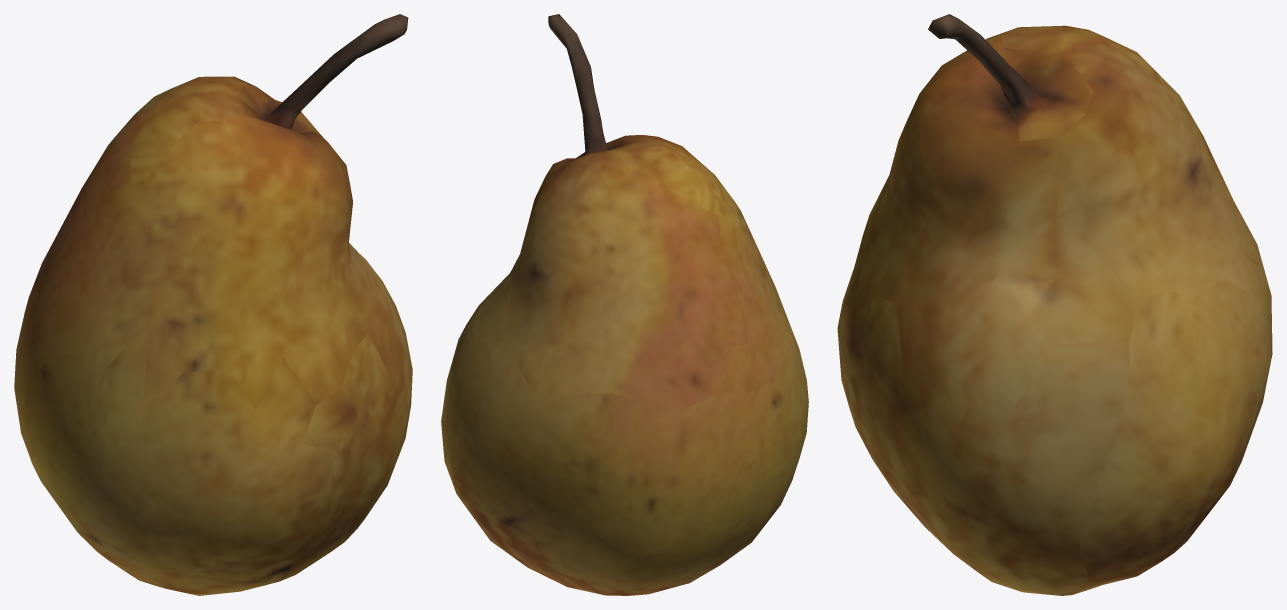
Rendered from pear.obj.
3 renders of one model, left to right at view 1: azimuth 30°, elevation 25°; view 2: azimuth 150°, elevation 25°; view 3: azimuth 270°, elevation 25°, orthographic. The views are drawn at different scales.
Parts seen in each view (by area): view 1: pear; view 2: pear; view 3: pear.
Part boxes in pixels (x1,y1,x2,y2): pear: (14,14,412,595); pear: (441,14,808,595); pear: (837,14,1272,595).
Bounding box in the file's own units: 0.0953 × 0.1527 × 0.0963.
Materials: 1 (1 with a texture image).
